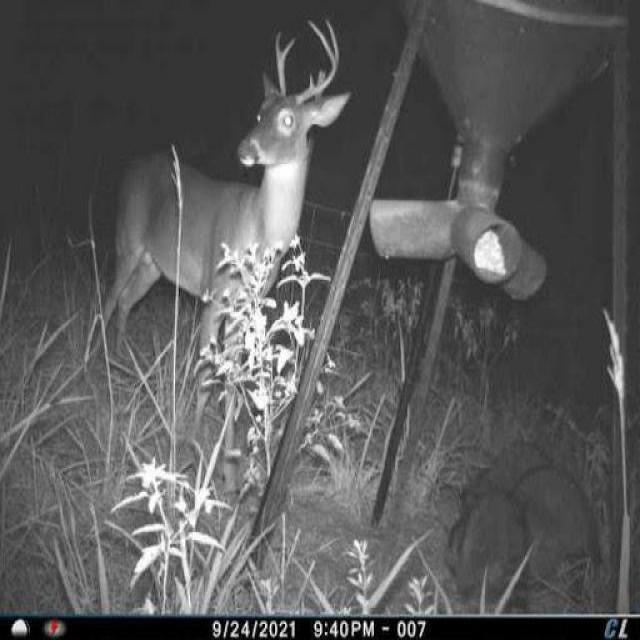deer: (84, 15, 354, 508)
